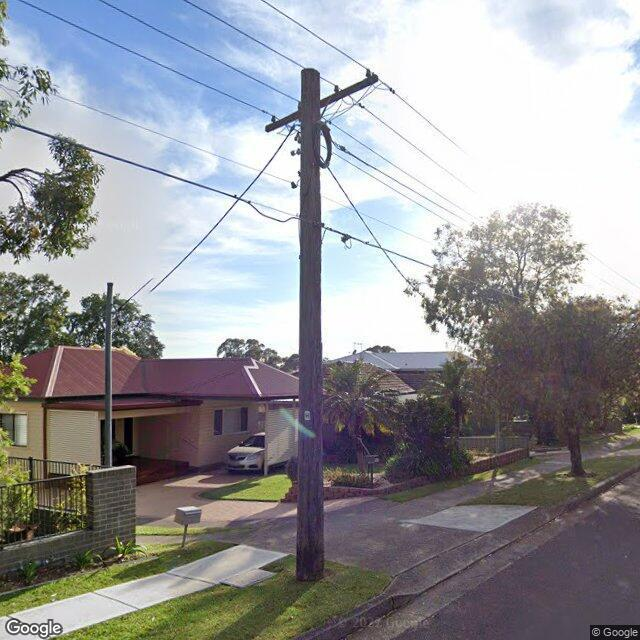crossarm: (264, 74, 380, 134)
steel-pole: (105, 282, 113, 468)
timber-pole: (296, 69, 323, 582)
